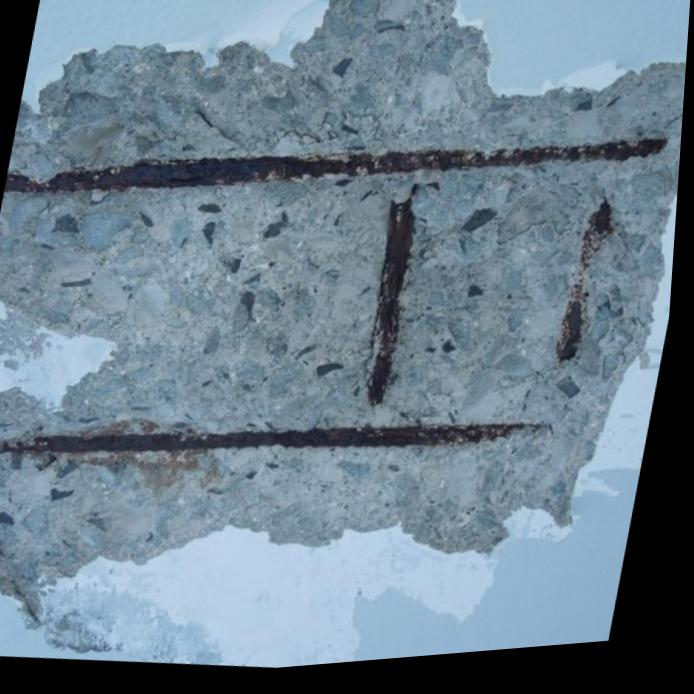damage: (0, 0, 688, 622)
